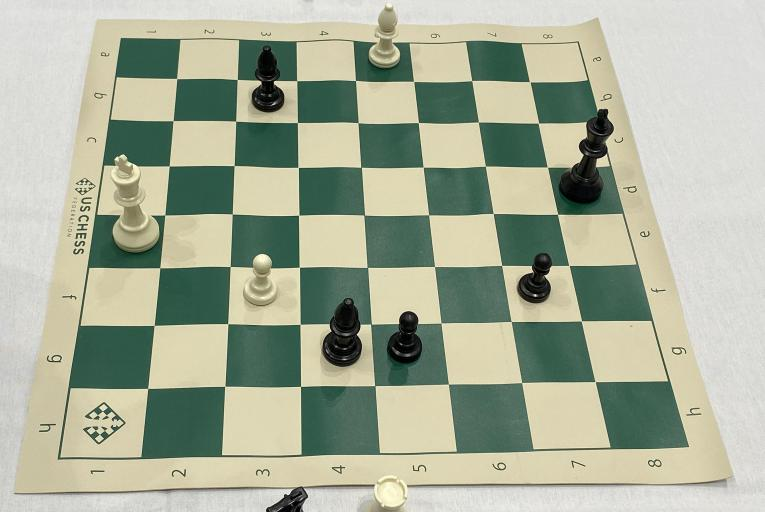black-bishop: (320, 292, 368, 377), (249, 42, 292, 117)
black-king: (554, 101, 625, 213)
black-pawn: (382, 307, 430, 368), (514, 249, 558, 313)
white-bishop: (361, 1, 413, 75)
white-king: (100, 151, 170, 258)
white-pawn: (239, 249, 284, 313)
